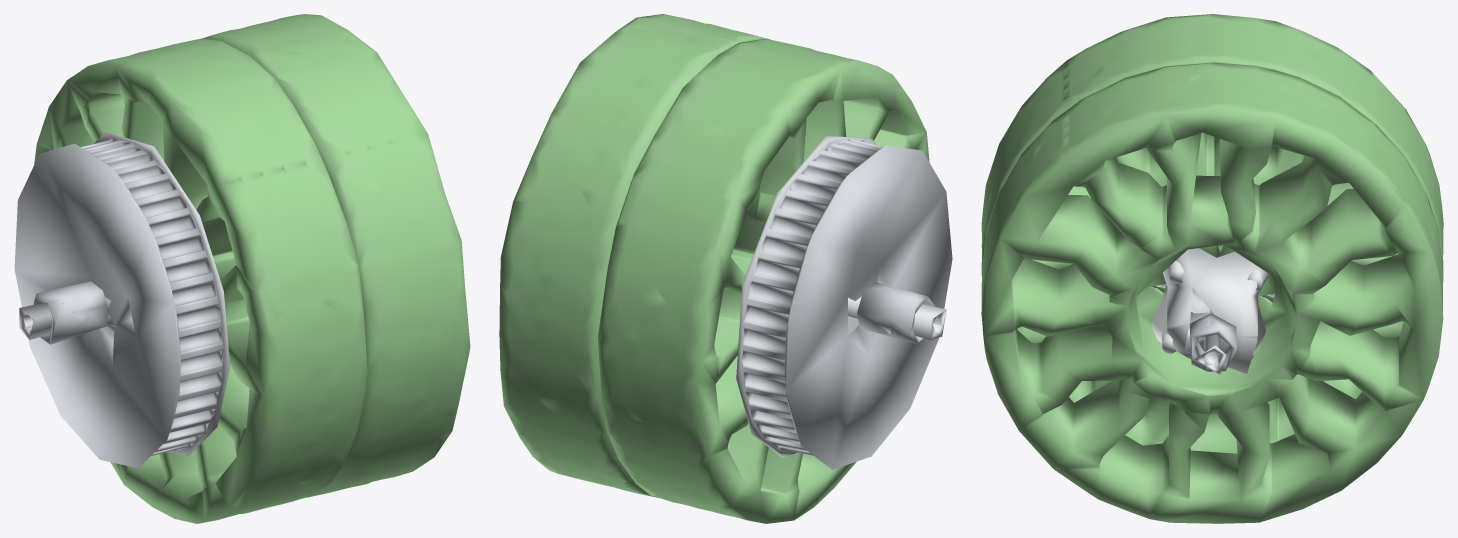
3 renders of one model, left to right at view 1: azimuth 30°, elevation 25°; view 2: azimuth 150°, elevation 25°; view 3: azimuth 270°, elevation 25°, orthographic. The views are drawn at different scales.
Parts seen in each view (by area): view 1: part_1, part_0, part_2; view 2: part_1, part_0, part_2; view 3: part_1, part_2, part_0.
Part boxes in pixels (x1,y1,x2,y2): part_1: (34, 14, 470, 523); part_0: (14, 132, 230, 468); part_2: (19, 296, 110, 339); part_1: (499, 14, 929, 523); part_0: (736, 136, 952, 469); part_2: (848, 296, 946, 339); part_1: (981, 14, 1443, 523); part_2: (1151, 248, 1269, 375); part_0: (1155, 284, 1274, 371).
Bounding box in the file's own units: 0.0965 × 0.0956 × 0.0957.
